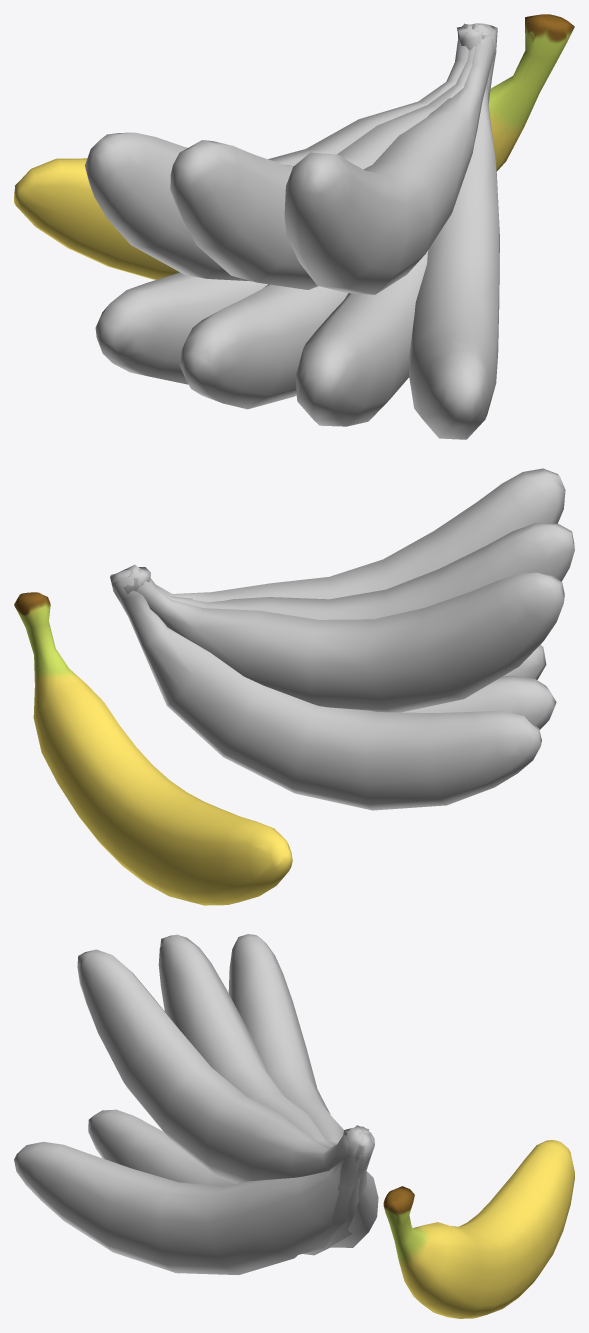
File: Banana-Banana Bunch.fbx
3 views of the same model, one above another, from view 1: azimuth 30°, elevation 25°; view 2: azimuth 150°, elevation 25°; view 3: azimuth 270°, elevation 25° (orthographic). The views are drawn at different scales.
Parts seen in each view (by area): view 1: Banana_bunch__Banana_bunch__1001, banana_bunch_1_banana_bunch_1_1001; view 2: Banana_bunch__Banana_bunch__1001, banana_bunch_1_banana_bunch_1_1001; view 3: Banana_bunch__Banana_bunch__1001, banana_bunch_1_banana_bunch_1_1001.
Part boxes in pixels (left/top/right/bottom): Banana_bunch__Banana_bunch__1001: left=85, top=23, right=499, bottom=439; banana_bunch_1_banana_bunch_1_1001: left=14, top=14, right=574, bottom=279; Banana_bunch__Banana_bunch__1001: left=110, top=468, right=574, bottom=810; banana_bunch_1_banana_bunch_1_1001: left=14, top=592, right=292, bottom=905; Banana_bunch__Banana_bunch__1001: left=14, top=934, right=378, bottom=1274; banana_bunch_1_banana_bunch_1_1001: left=383, top=1140, right=574, bottom=1318.
Bounding box in the file's own units: 139 × 83.3 × 154.
